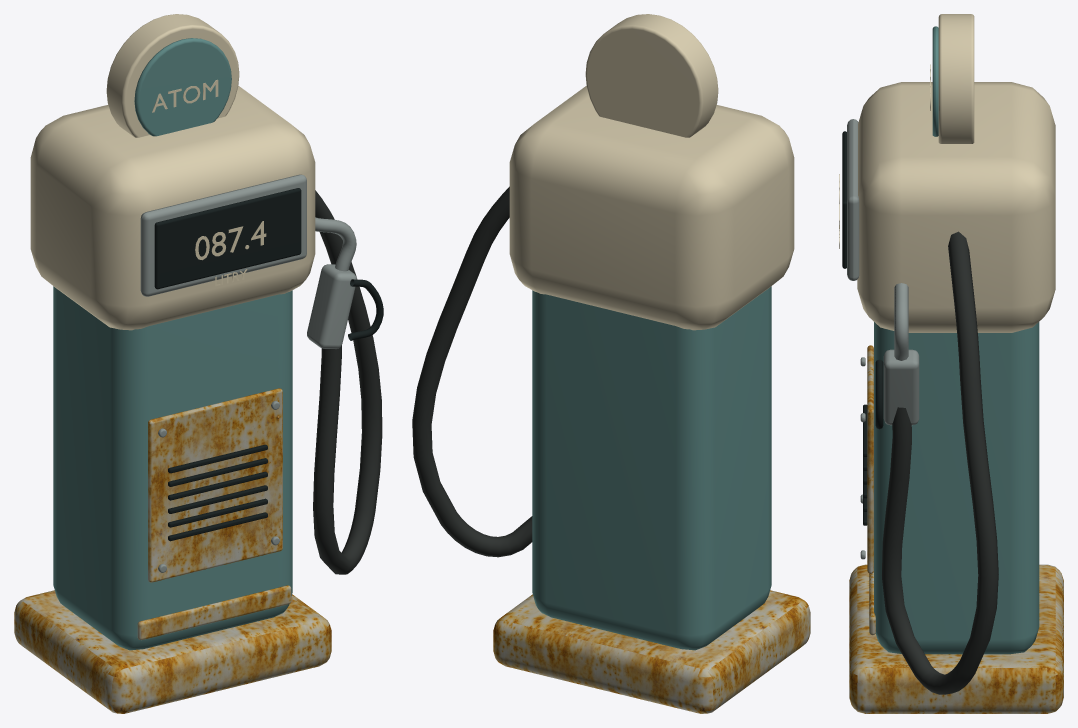
File: ashen_pump.glb
3 views of the same model, side by side, from view 1: azimuth 30°, elevation 25°; view 2: azimuth 150°, elevation 25°; view 3: azimuth 270°, elevation 25° (orthographic).
Visible parts, largest first — view 1: Faded petrol blue enamel, Aged ivory enamel, Oxidised steel - Poly Haven, Recesses, Dry rubber, Tarnished chrome; view 2: Faded petrol blue enamel, Aged ivory enamel, Oxidised steel - Poly Haven, Dry rubber; view 3: Aged ivory enamel, Faded petrol blue enamel, Oxidised steel - Poly Haven, Dry rubber, Tarnished chrome, Recesses.
Boxes of the visible parts, <box> form: Faded petrol blue enamel: <box>53,38,292,650</box>; Aged ivory enamel: <box>30,14,315,330</box>; Oxidised steel - Poly Haven: <box>14,388,331,713</box>; Recesses: <box>154,188,383,541</box>; Dry rubber: <box>313,190,382,574</box>; Tarnished chrome: <box>140,174,356,572</box>; Faded petrol blue enamel: <box>532,286,771,650</box>; Aged ivory enamel: <box>509,14,794,330</box>; Oxidised steel - Poly Haven: <box>493,590,810,713</box>; Dry rubber: <box>412,186,532,557</box>; Aged ivory enamel: <box>839,14,1055,332</box>; Faded petrol blue enamel: <box>874,26,1039,654</box>; Oxidised steel - Poly Haven: <box>849,345,1063,713</box>; Dry rubber: <box>881,231,998,694</box>; Tarnished chrome: <box>847,119,919,559</box>; Recesses: <box>842,131,883,525</box>.
Size of the model in its own units: 1.42 by 2.58 by 0.817.
Materials: 6 (1 with a texture image).
